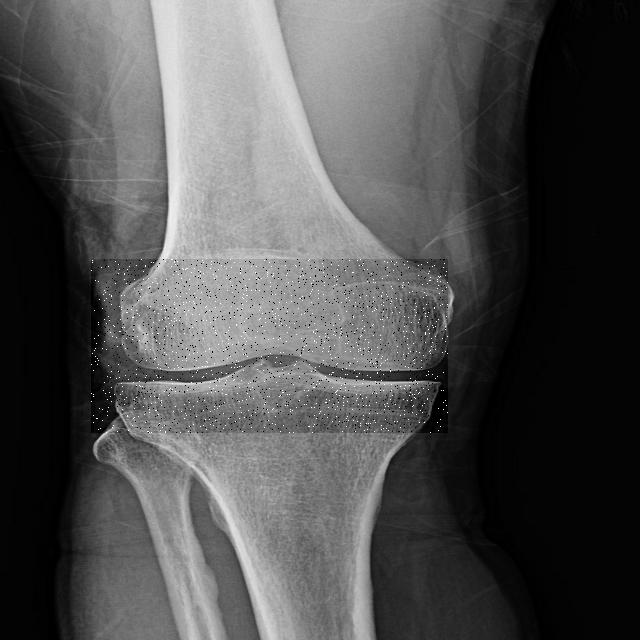osteo: (91, 259, 448, 433)
